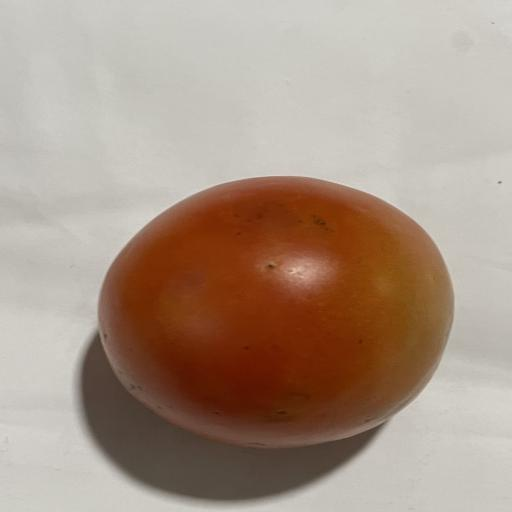unripe: (100, 177, 453, 447)
